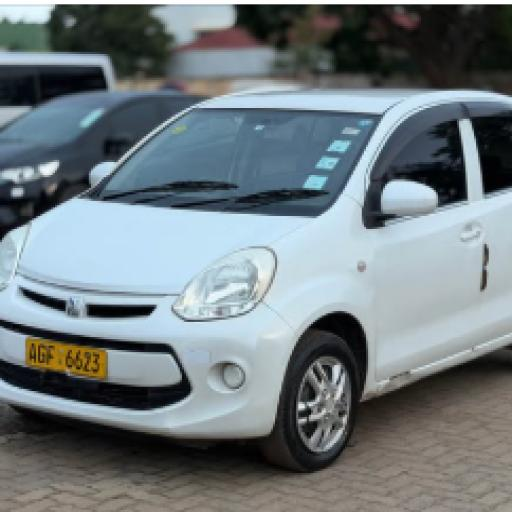number-plates: (22, 333, 111, 381)
